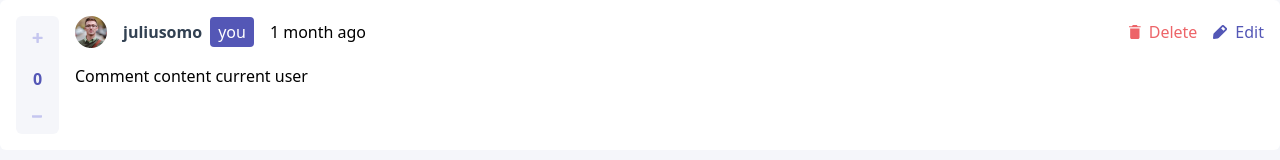
CommentList › should switches from downvote to upvote correctly
The width and height of the screenshot is (1280, 160).
Click the button named "downvote" at (38, 116), box 16,99 -> 59,134
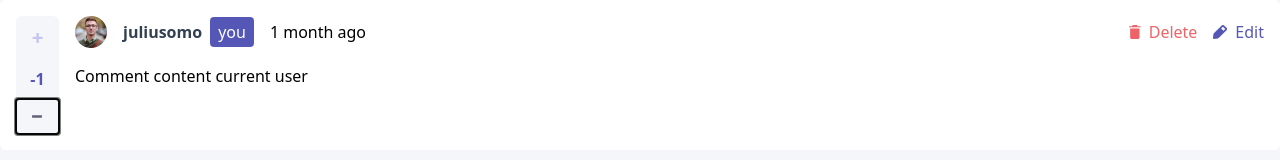
Expected: the text "-1" is shown, 30,67 -> 45,91
Click the button named "upvote" at (38, 38), box 16,16 -> 59,59
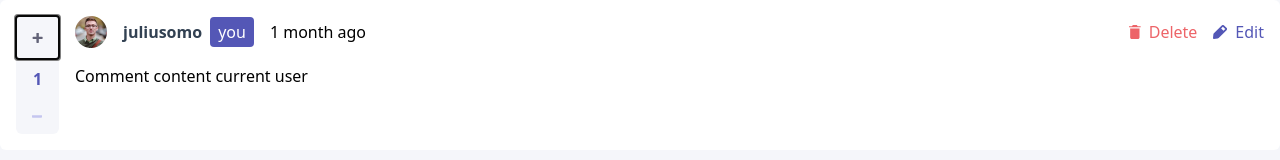
Expected: the text "1" is shown, 33,67 -> 42,91
Expected: the text "-1" is gone
